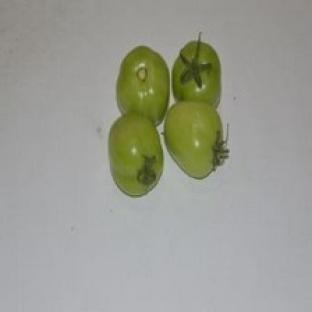Tomato: (165, 102, 228, 178), (109, 113, 162, 196), (116, 46, 169, 125), (172, 34, 221, 107)
